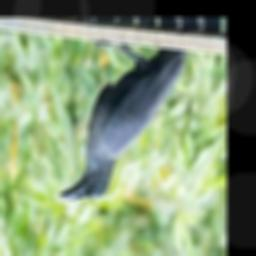Crow: (58, 18, 199, 202)
